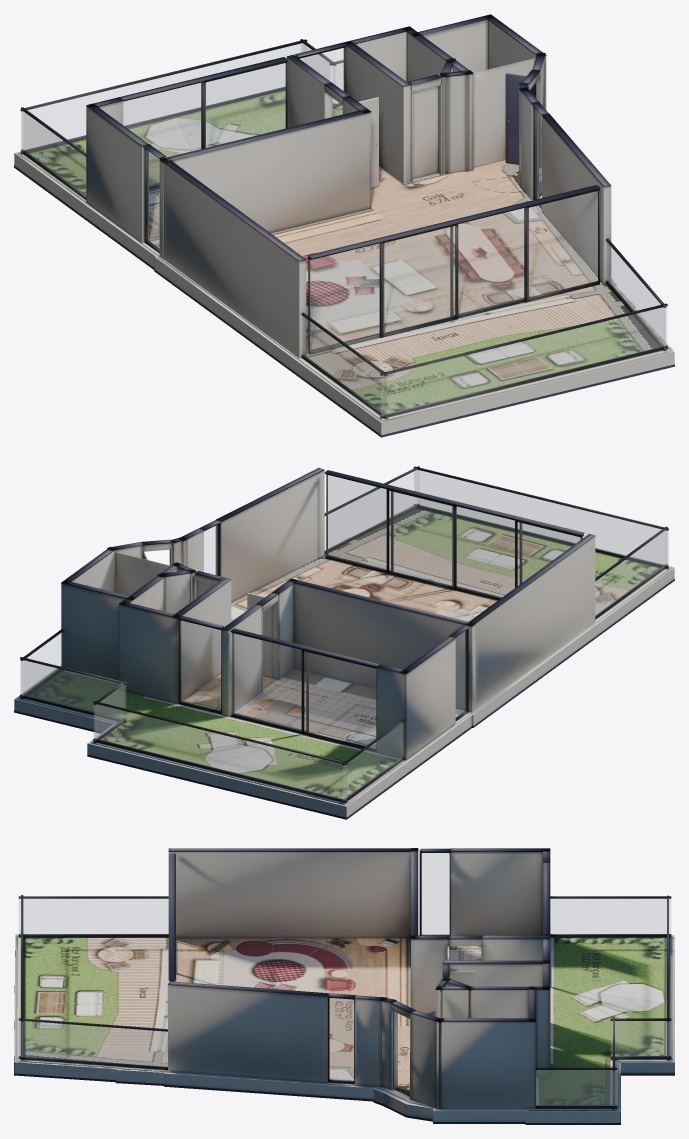
3 views of the same model, one above another, from view 1: azimuth 30°, elevation 25°; view 2: azimuth 150°, elevation 25°; view 3: azimuth 270°, elevation 25° (orthographic). The views are drawn at different scales.
Parts seen in each view (by area): view 1: plan, glass4_m, railg2_m, glass0_m, railg0_m, railg6_m, railg5_m, railg7_m, glass2_m, glass1_m; view 2: plan, glass4_m, glass0_m, railg0_m, railg2_m, glass1_m, railg1_m, railg7_m, railg6_m, railg5_m, railg3_m, railg4_m (+2 smaller); view 3: plan, railg7_m, railg6_m, railg5_m, railg3_m, glass2_m, railg4_m, glass3_m.
Part boxes in pixels (<box>): plan: <box>14,14,674,437</box>; glass4_m: <box>309,191,597,351</box>; railg2_m: <box>381,307,666,415</box>; glass0_m: <box>123,63,285,186</box>; railg0_m: <box>21,43,305,151</box>; railg6_m: <box>303,316,386,415</box>; railg5_m: <box>22,112,85,195</box>; railg7_m: <box>607,242,665,347</box>; glass2_m: <box>146,150,159,249</box>; glass1_m: <box>300,48,344,116</box>; plan: <box>14,466,674,819</box>; glass4_m: <box>326,475,580,597</box>; glass0_m: <box>232,633,375,748</box>; railg0_m: <box>94,704,346,799</box>; railg2_m: <box>414,470,668,565</box>; glass1_m: <box>180,620,220,710</box>; railg1_m: <box>20,660,126,719</box>; railg7_m: <box>325,470,418,550</box>; railg6_m: <box>595,531,666,615</box>; railg5_m: <box>343,723,402,800</box>; railg3_m: <box>21,633,61,695</box>; railg4_m: <box>95,685,124,739</box>; plan: <box>14,848,674,1124</box>; railg7_m: <box>19,1021,167,1066</box>; railg6_m: <box>19,899,168,934</box>; railg5_m: <box>550,899,670,934</box>; railg3_m: <box>536,1070,616,1105</box>; glass2_m: <box>422,853,449,934</box>; railg4_m: <box>611,1021,670,1056</box>; glass3_m: <box>329,998,353,1081</box>.
Bounding box in the file's own units: 9.89 × 2.62 × 15.57.
2 materials, 1 textured.
